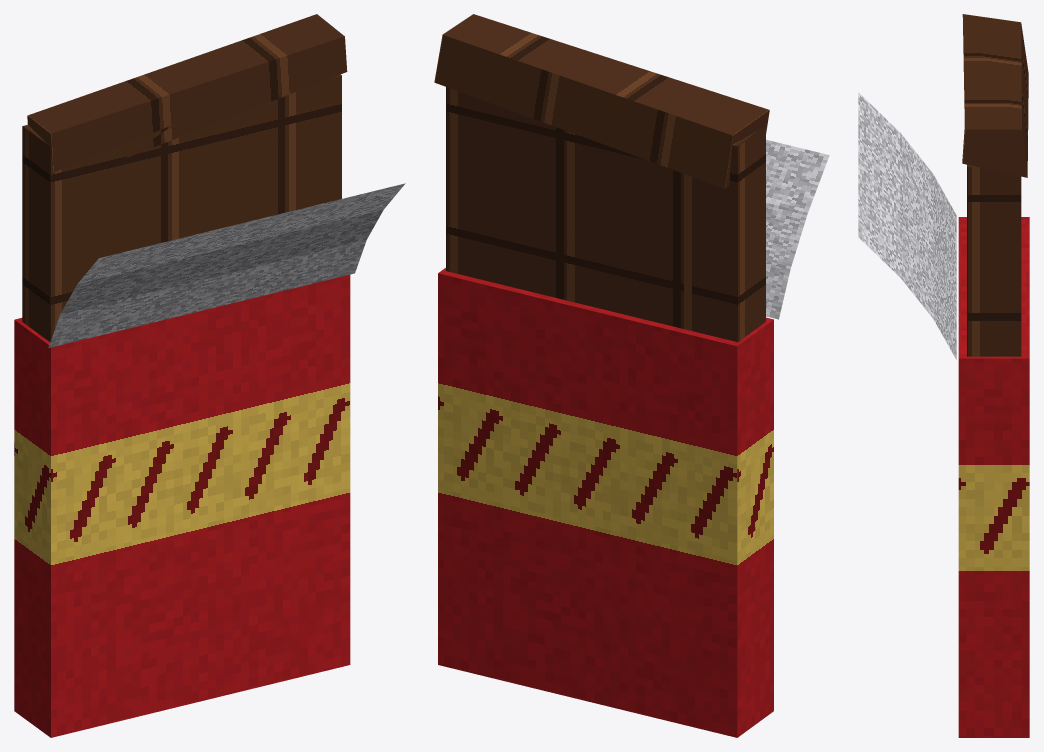
Rendered from item_chocolate.glb.
3 renders of one model, left to right at view 1: azimuth 30°, elevation 25°; view 2: azimuth 150°, elevation 25°; view 3: azimuth 270°, elevation 25°, orthographic. The views are drawn at different scales.
Visible parts, largest first — view 1: item_chocolate; view 2: item_chocolate; view 3: item_chocolate.
Part boxes in pixels (x1,y1,x2,y2): item_chocolate: (14, 14, 405, 737); item_chocolate: (434, 14, 829, 737); item_chocolate: (858, 14, 1029, 737).
Size of the model in its own units: 0.0823 by 0.1602 by 0.041.
Materials: 3 (3 with a texture image).
